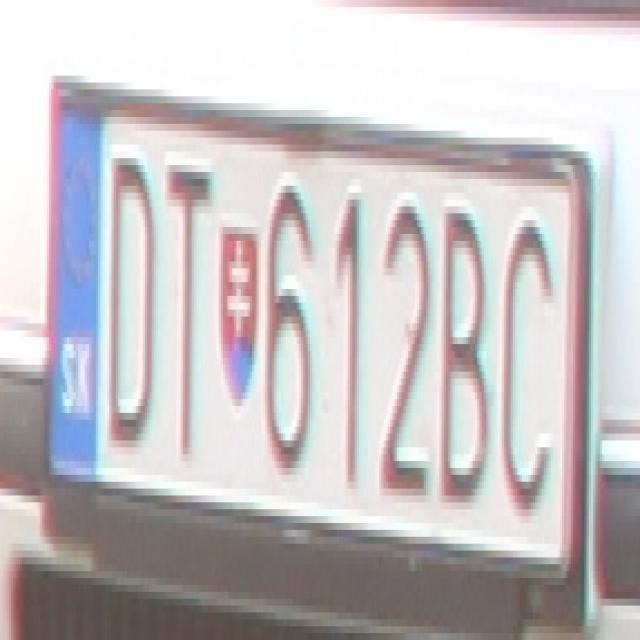1: (332, 186, 362, 488)
2: (379, 199, 428, 516)
6: (258, 172, 310, 482)
B: (438, 192, 490, 502)
C: (495, 199, 551, 516)
D: (105, 144, 156, 448)
T: (162, 144, 210, 468)
